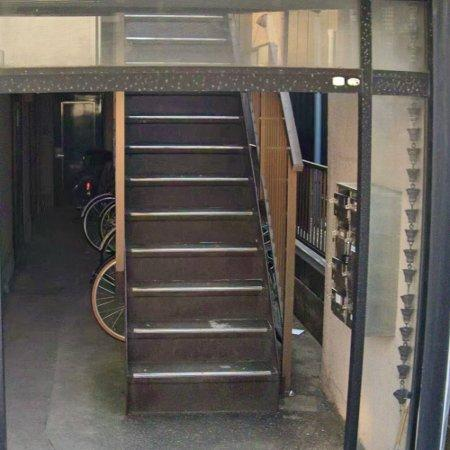stairs: (126, 95, 280, 415)
